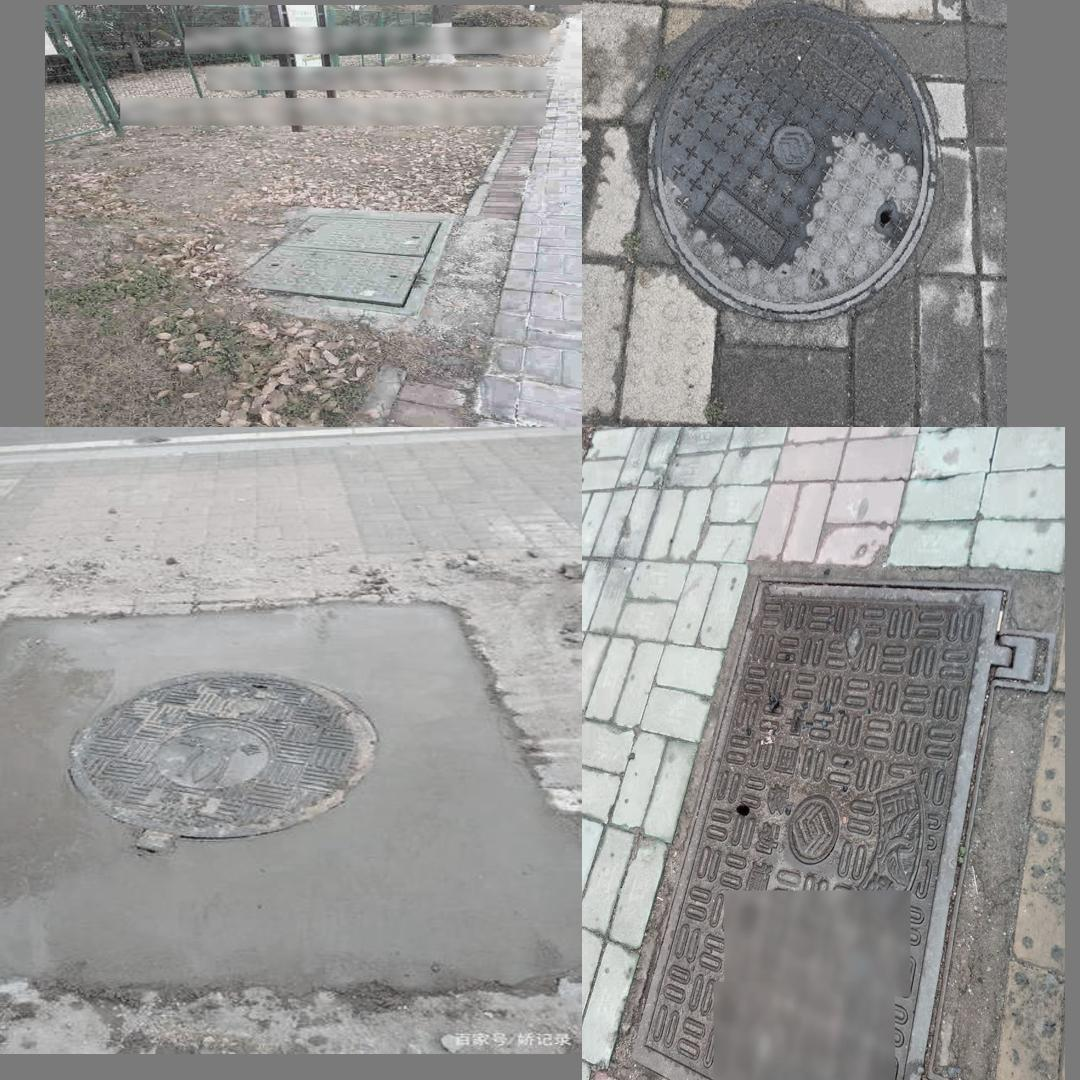good: (0, 598, 556, 1008), (628, 574, 1056, 1080), (645, 2, 935, 323), (217, 213, 454, 308)
